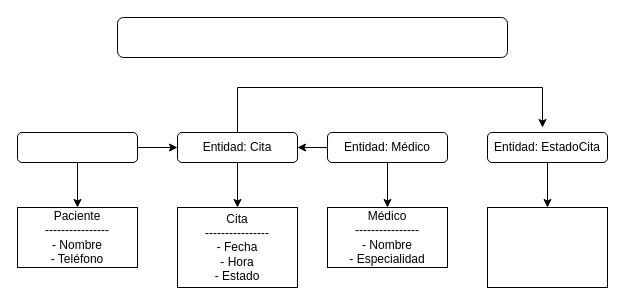
Some shapes in this 625 by 305 pixel diagram are drawn without their labels. The shapes that lost their labels are listed below. From the top down, each one's box as (x1, y1, x2, y2) in pixels, then its label:
(116, 16, 508, 58): “Modelo de Datos – Sistema de Reservas Médicas”
(16, 132, 138, 162): Entidad: Paciente
(486, 206, 608, 288): EstadoCita ---------------- - Programada - Cancelada - Atendida
